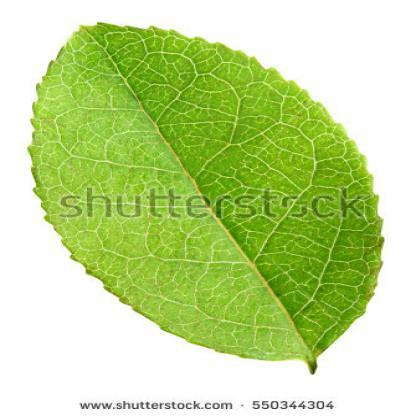Blueberry leaf: (25, 11, 396, 378)
